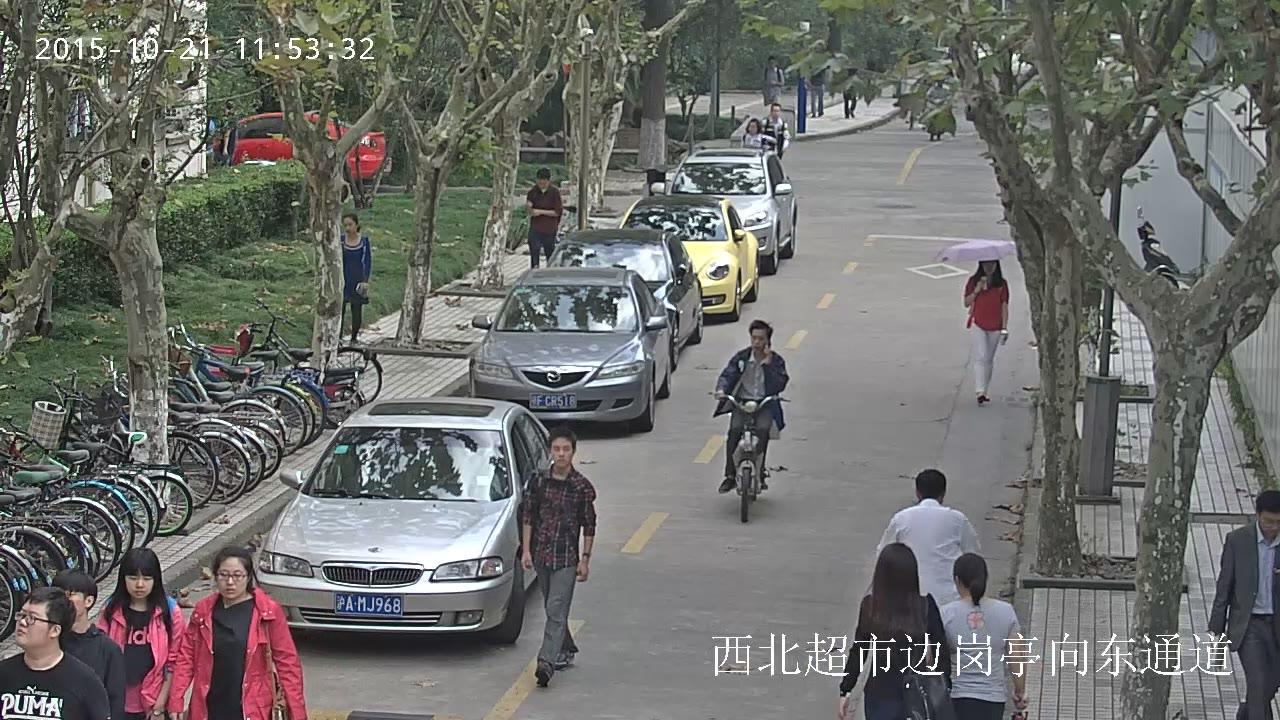person: (168, 546, 309, 720), (838, 542, 952, 720), (518, 426, 595, 685), (865, 468, 983, 613), (707, 319, 790, 523), (1207, 490, 1280, 720), (937, 552, 1029, 720), (95, 547, 182, 720), (0, 586, 111, 720), (712, 320, 788, 491), (942, 238, 1016, 406), (47, 569, 125, 720), (963, 258, 1009, 406), (336, 213, 371, 348), (525, 167, 562, 268), (760, 103, 790, 161), (925, 80, 949, 141), (763, 54, 785, 106), (743, 118, 777, 151), (808, 72, 823, 118), (843, 87, 856, 120)
